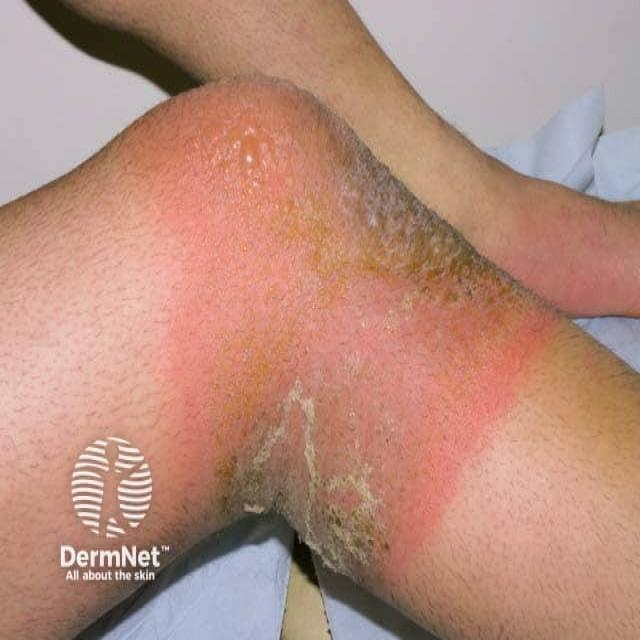Eczema: (198, 102, 550, 335), (218, 385, 395, 583)
